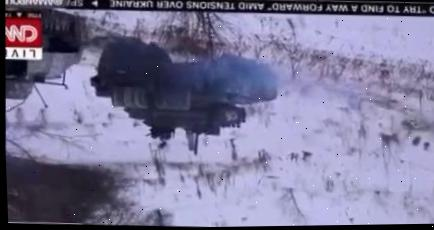tank: (81, 41, 279, 146), (0, 0, 98, 110)
